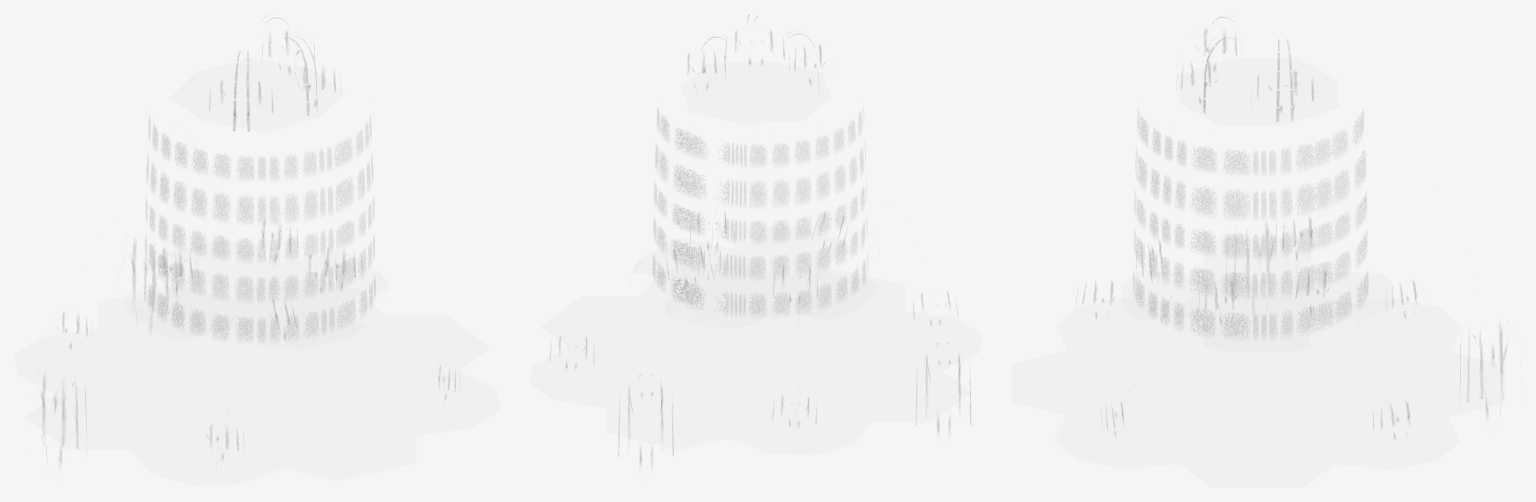
Rendered from agua model.glb.
3 views of the same model, side by side, from view 1: azimuth 30°, elevation 25°; view 2: azimuth 150°, elevation 25°; view 3: azimuth 270°, elevation 25° (orthographic). The views are drawn at different scales.
Parts seen in each view (by area): view 1: Cylinder.009_primitive4, Cylinder.009_primitive3, Cylinder.009_primitive0, Cylinder.009_primitive1; view 2: Cylinder.009_primitive4, Cylinder.009_primitive3, Cylinder.009_primitive0; view 3: Cylinder.009_primitive4, Cylinder.009_primitive3, Cylinder.009_primitive0.
Part boxes in pixels (box(x1,y1,x2,y2)): Cylinder.009_primitive4: box(15, 58, 499, 484); Cylinder.009_primitive3: box(144, 121, 375, 338); Cylinder.009_primitive0: box(41, 32, 455, 461); Cylinder.009_primitive1: box(233, 15, 317, 131); Cylinder.009_primitive4: box(530, 61, 981, 454); Cylinder.009_primitive3: box(653, 113, 865, 312); Cylinder.009_primitive0: box(550, 31, 970, 463); Cylinder.009_primitive4: box(1011, 57, 1504, 487); Cylinder.009_primitive3: box(1133, 116, 1367, 336); Cylinder.009_primitive0: box(1083, 30, 1506, 437).
Size of the model in its own units: 17.34 by 15.29 by 17.21.
Materials: 5 (4 with a texture image).
